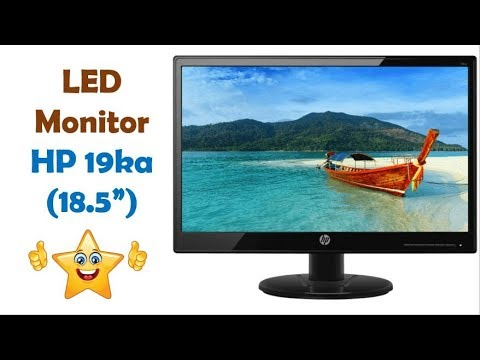hp-monitor-19ka: (170, 54, 477, 301)
